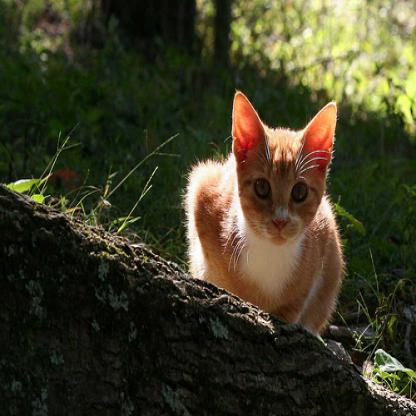cat: (186, 82, 365, 336)
